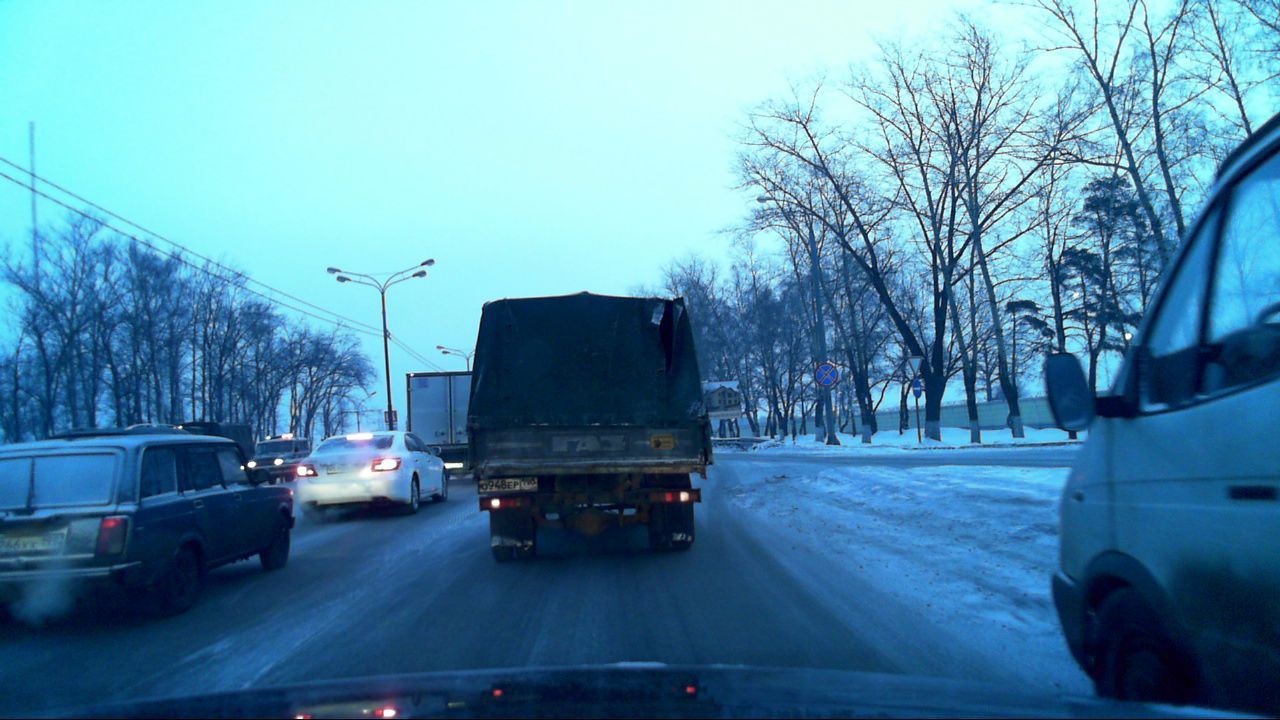No Parking: (814, 362, 839, 387)
